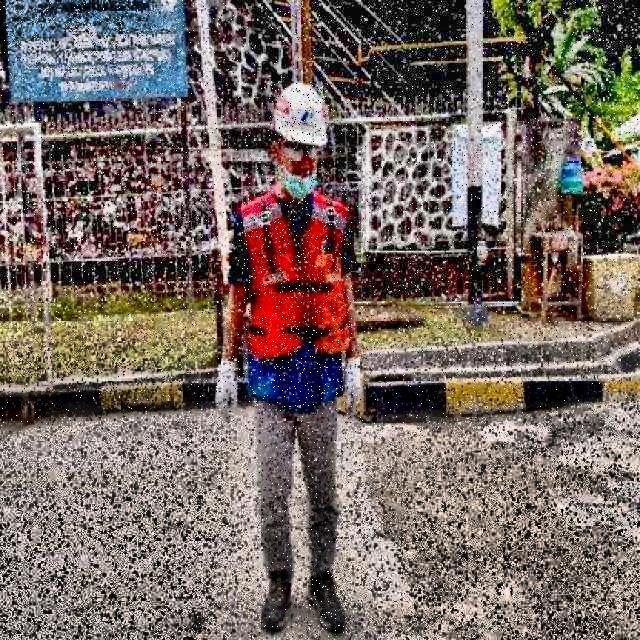safety_helmet: (270, 82, 332, 144)
safety_jacket: (244, 194, 352, 409)
